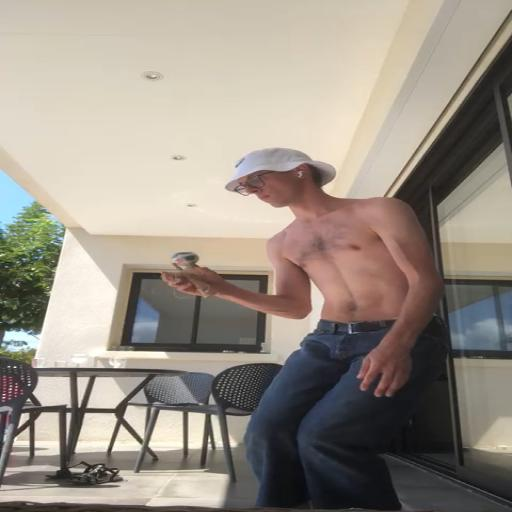kendama_ball: (170, 251, 200, 266)
